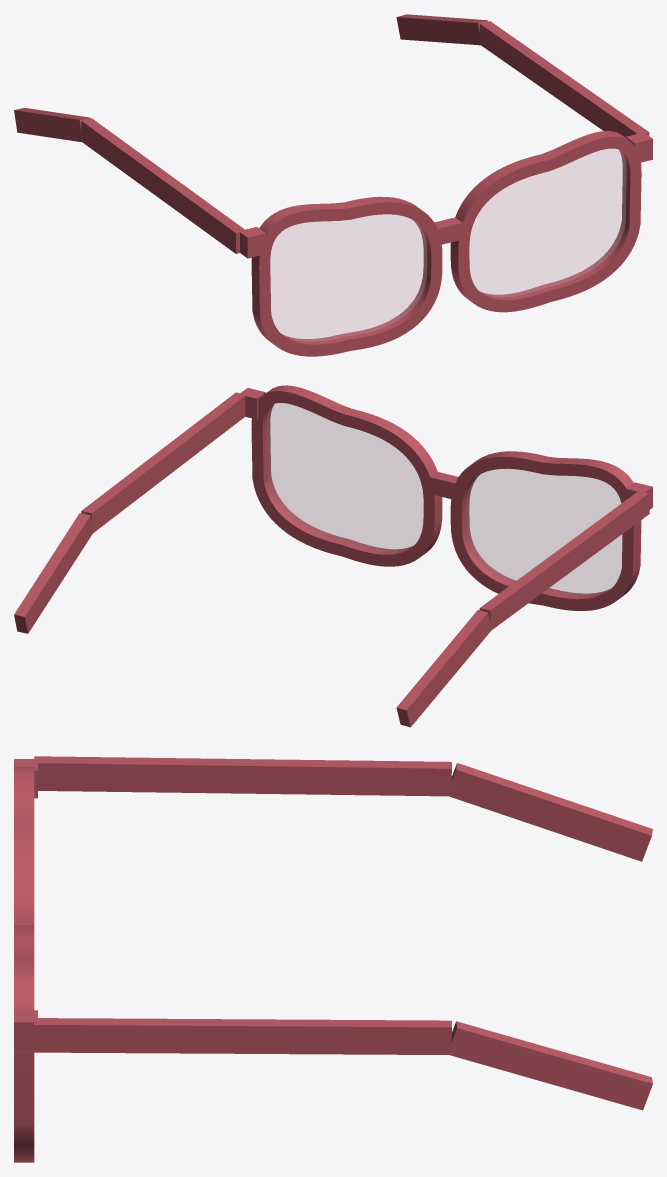
File: frame-04.glb
3 renders of one model, top to bottom at view 1: azimuth 30°, elevation 25°; view 2: azimuth 150°, elevation 25°; view 3: azimuth 270°, elevation 25°, orthographic. The views are drawn at different scales.
Parts seen in each view (by area): view 1: Glasses; view 2: Glasses; view 3: Glasses.
Boxes of the visible parts, x1,y1,x2,y2 form: Glasses: [14, 14, 652, 356]; Glasses: [14, 385, 652, 727]; Glasses: [14, 756, 652, 1162].
Size of the model in its own units: 0.14 by 0.0494 by 0.1408.
